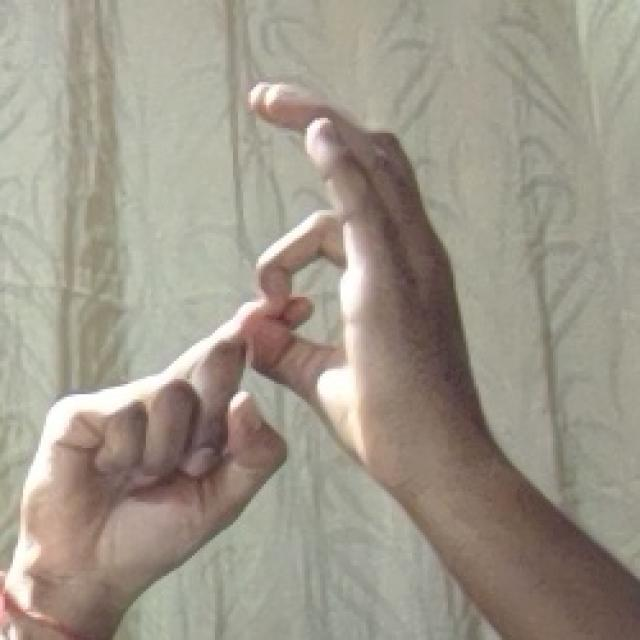Alphabet-Q: (17, 48, 519, 612)
